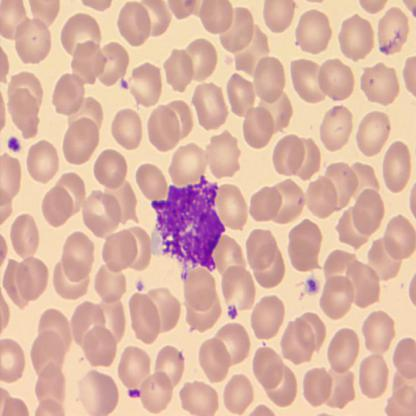Basophil: (150, 172, 230, 273)
